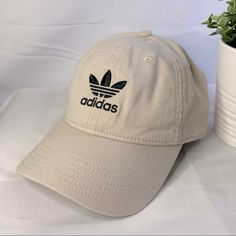adidas Originale: (76, 64, 133, 116)
